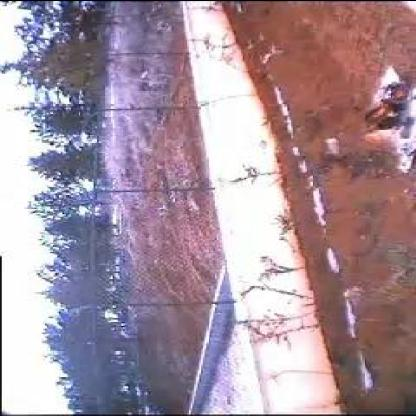-: (354, 150, 378, 167)
foggia-v2-map80-epoch100 - v1 4323: (364, 129, 388, 145)
